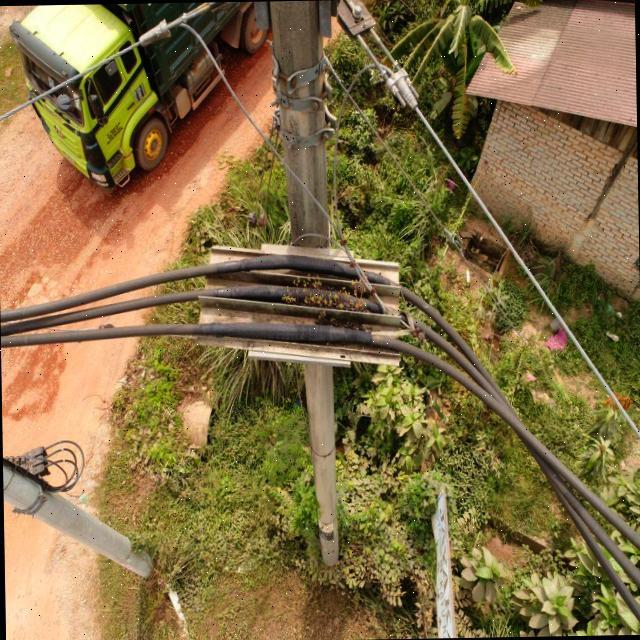critical vegetation: (265, 255, 378, 343)
